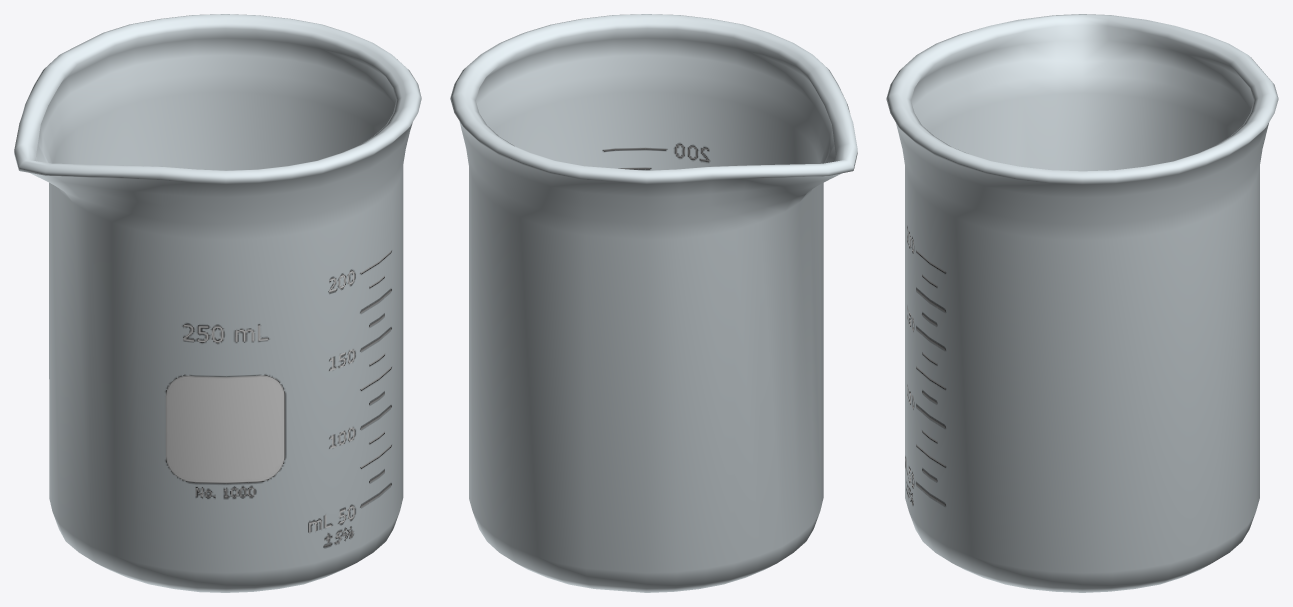
File: becher.glb
The picture shows the model from 3 angles, left to right: view 1: azimuth 30°, elevation 25°; view 2: azimuth 150°, elevation 25°; view 3: azimuth 270°, elevation 25°; orthographic projection.
Parts seen in each view (by area): view 1: model_0; view 2: model_0; view 3: model_0.
Boxes of the visible parts, <box> form: model_0: <box>14,14,421,592</box>; model_0: <box>450,14,857,592</box>; model_0: <box>886,14,1278,592</box>.
Size of the model in its own units: 0.0849 by 0.0938 by 0.0767.
Materials: 1 (1 with a texture image).
